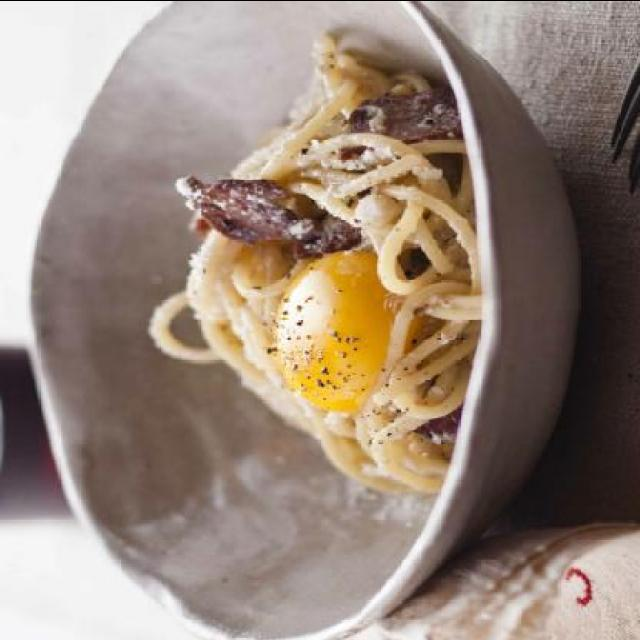Pasta with carbonara sauce: (94, 41, 572, 484)
